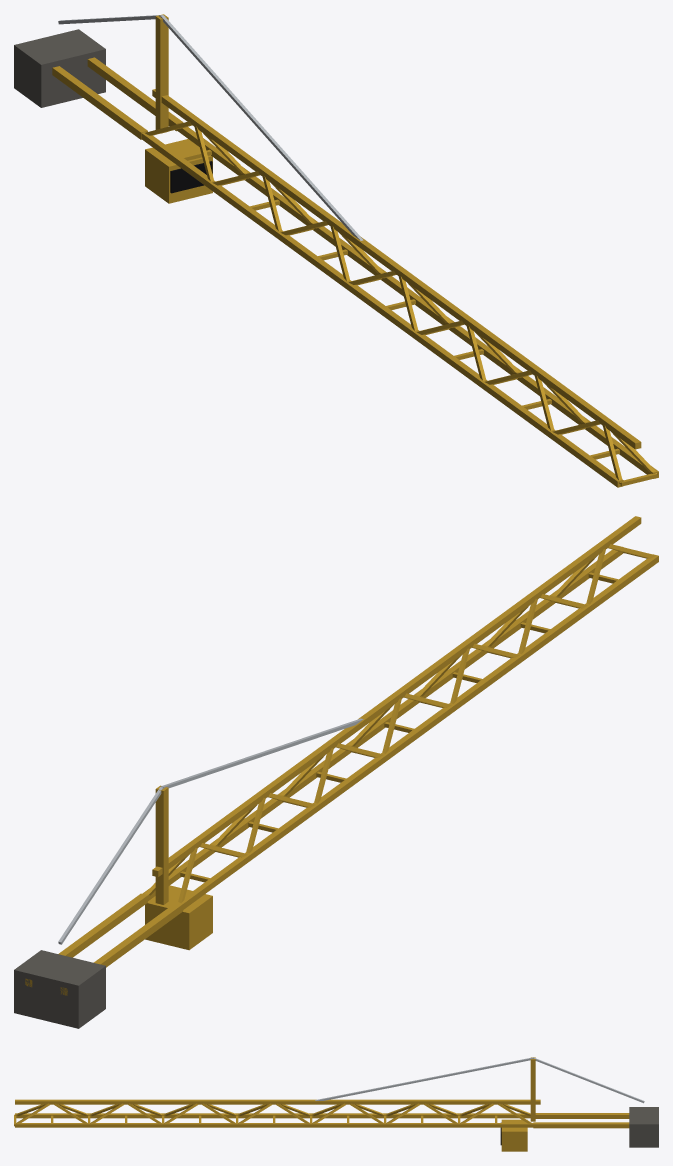
Rendered from pier_boom.glb.
The picture shows the model from 3 angles, top to bottom: view 1: azimuth 30°, elevation 25°; view 2: azimuth 150°, elevation 25°; view 3: azimuth 270°, elevation 25°; orthographic projection. The views are drawn at different scales.
Parts seen in each view (by area): view 1: Body; view 2: Body; view 3: Body.
Boxes of the visible parts, x1,y1,x2,y2 form: Body: (14, 14, 658, 487); Body: (14, 516, 658, 1028); Body: (14, 1057, 658, 1151).
Bounding box in the file's own units: 0.11 × 0.2624 × 1.74.
